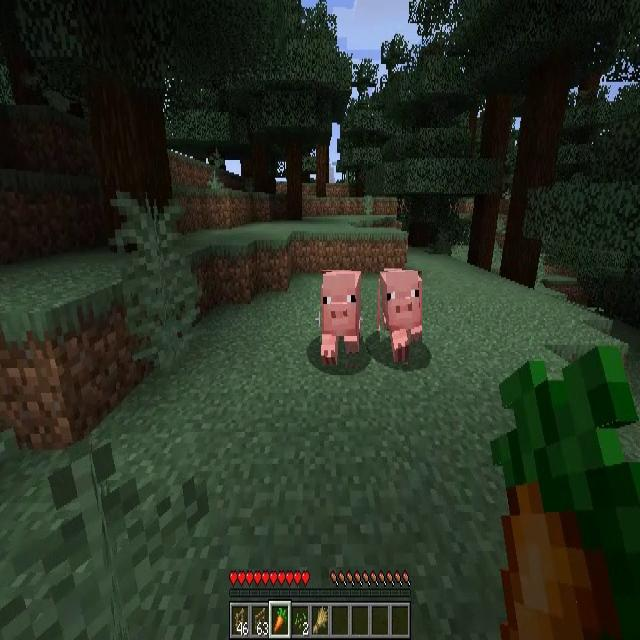pig: (320, 271, 363, 365), (380, 271, 422, 362)
